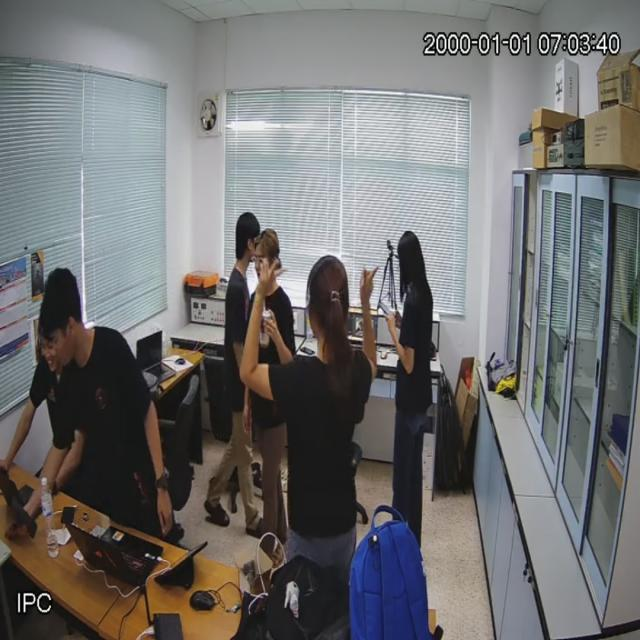normal: (49, 262, 172, 536), (273, 254, 363, 556), (211, 215, 259, 522), (393, 234, 436, 529)
